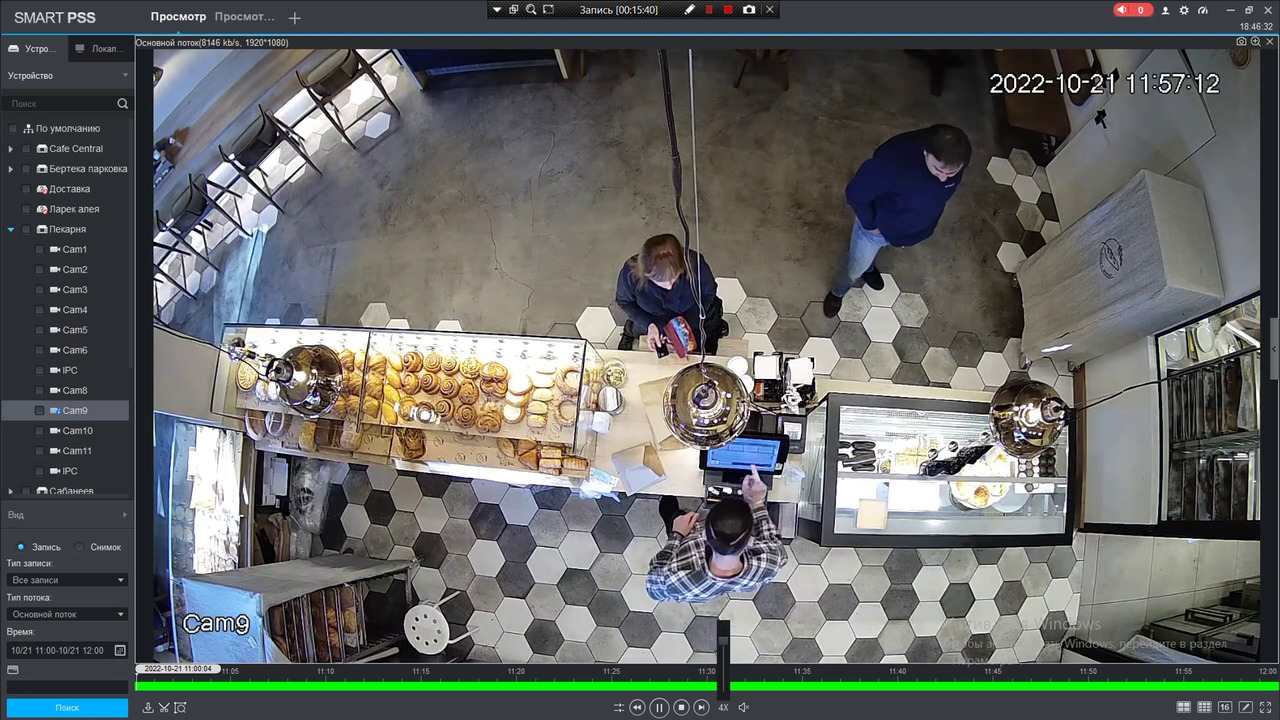barcounter: (219, 314, 1086, 553)
pack: (631, 375, 683, 443), (607, 449, 669, 488)
person: (641, 488, 795, 607), (616, 236, 725, 356)
